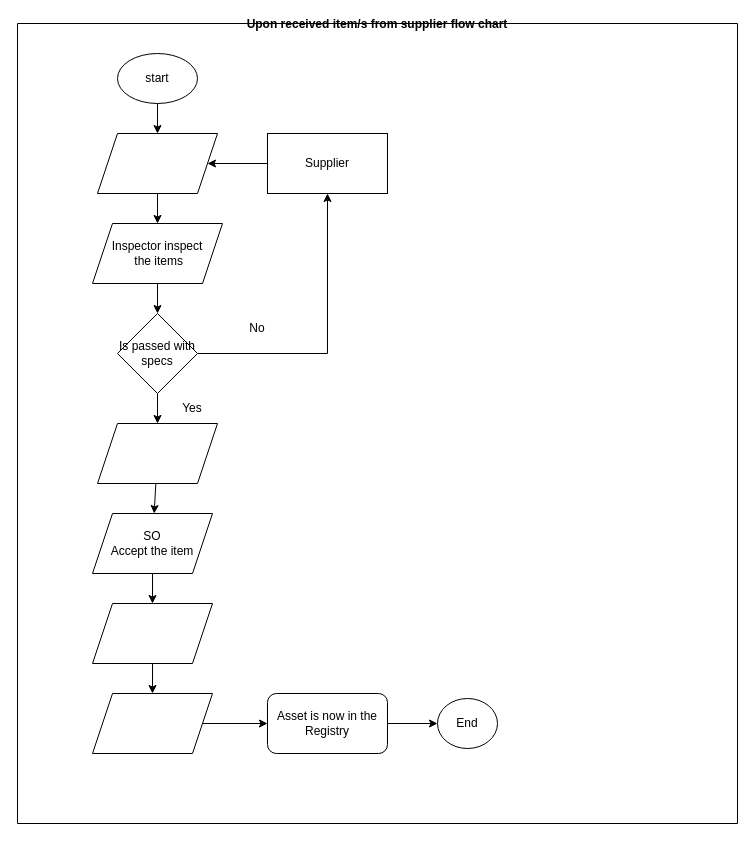
Image size: 755x841. Some labels were removed from this diagram. The shapes that lost their labels are listed below. From the top down, each one's centre as x and y in pixels, then its label:
At [157,163]: "Supply Officer (SO) Received Iitem and do Request for Inspection".
At [157,453]: "SO do add these items to IAR with creation property number for each items".
At [152,633]: "Print IAR from for signature of Inspectior and SO".
At [152,723]: "SO do command to add these items to Asset Registry".
